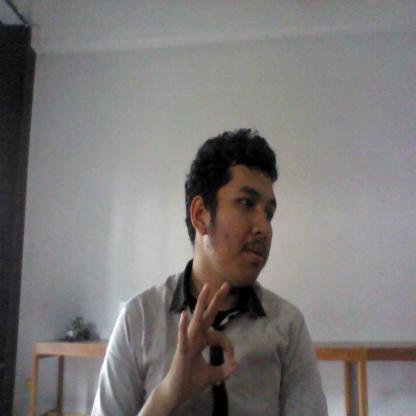O: (163, 280, 255, 400)
